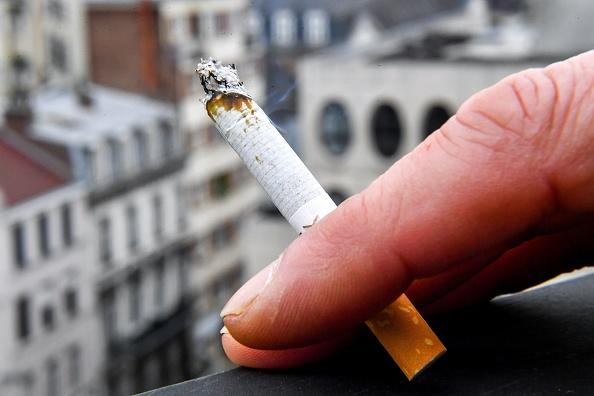cigarette: (189, 49, 455, 384)
